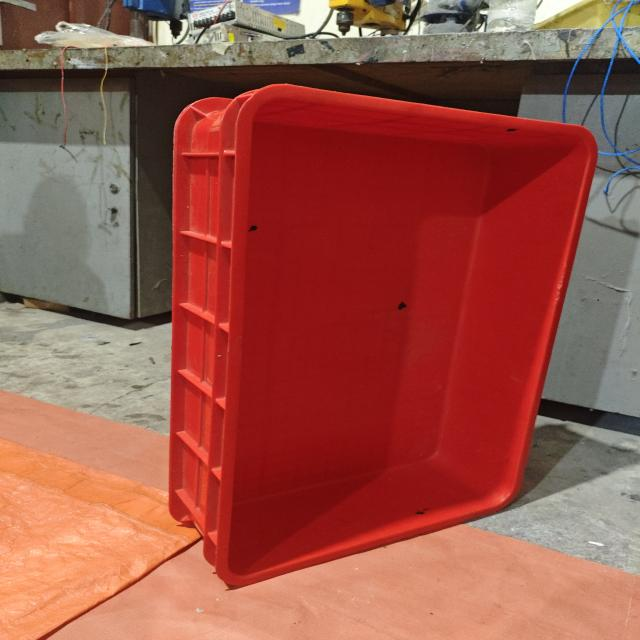red plastic box: (168, 84, 598, 588)
